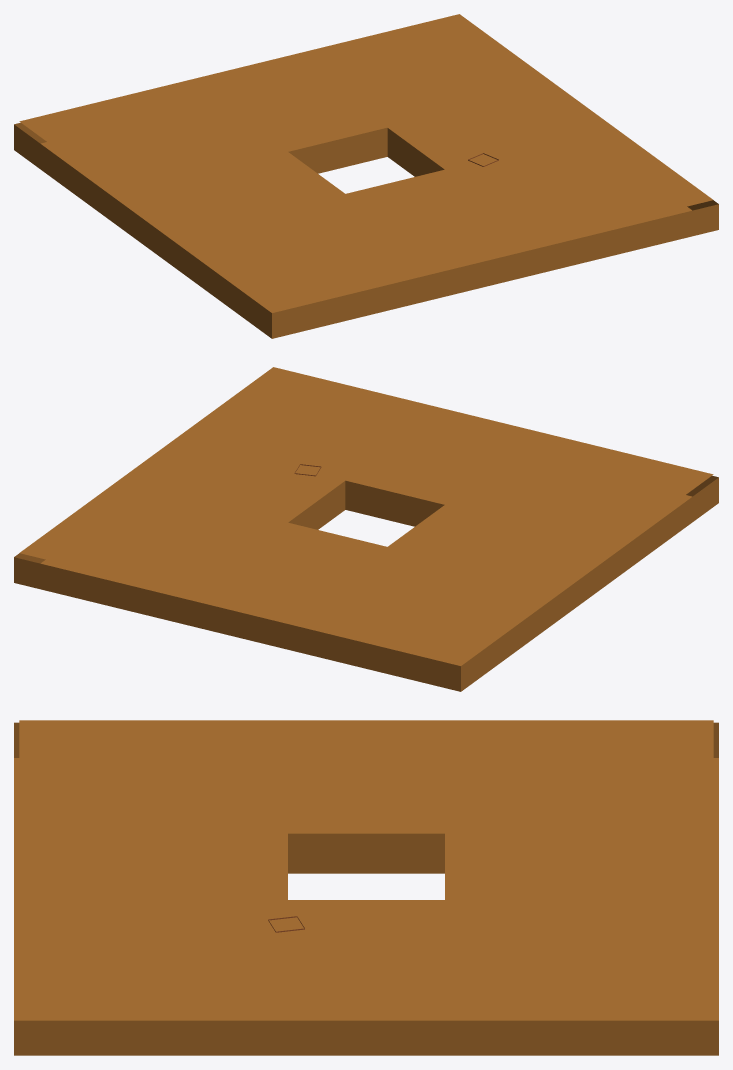
File: Platform.fbx
3 views of the same model, one above another, from view 1: azimuth 30°, elevation 25°; view 2: azimuth 150°, elevation 25°; view 3: azimuth 270°, elevation 25° (orthographic). The views are drawn at different scales.
Parts seen in each view (by area): view 1: Cube; view 2: Cube; view 3: Cube.
Part boxes in pixels (<box>): Cube: <box>14,14,718,338</box>; Cube: <box>14,367,718,691</box>; Cube: <box>14,720,718,1055</box>.
Bounding box in the file's own units: 16 × 1.05 × 16.
1 material, 1 textured.
